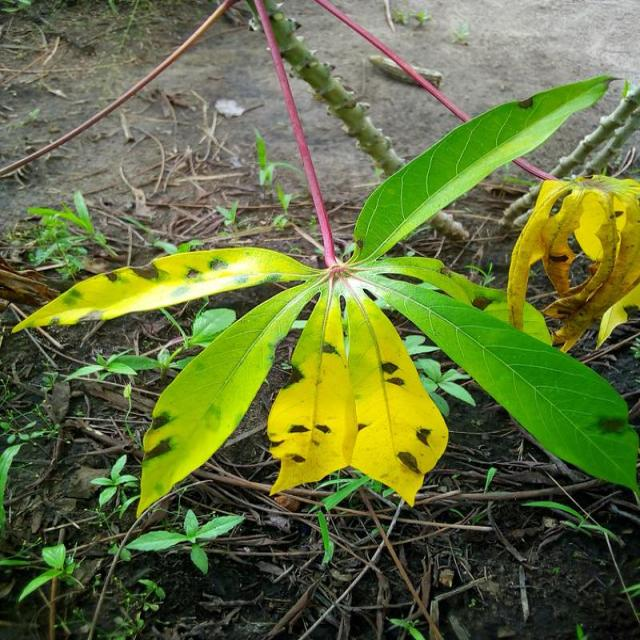cassava leaf: (12, 48, 639, 522), (363, 268, 640, 506), (350, 71, 622, 266), (136, 274, 327, 520), (12, 244, 325, 334), (345, 290, 450, 508)
